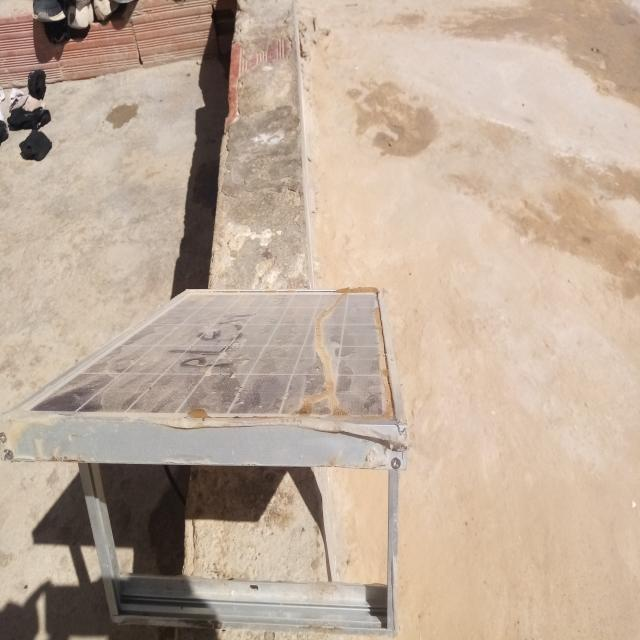faulty: (5, 289, 402, 422)
